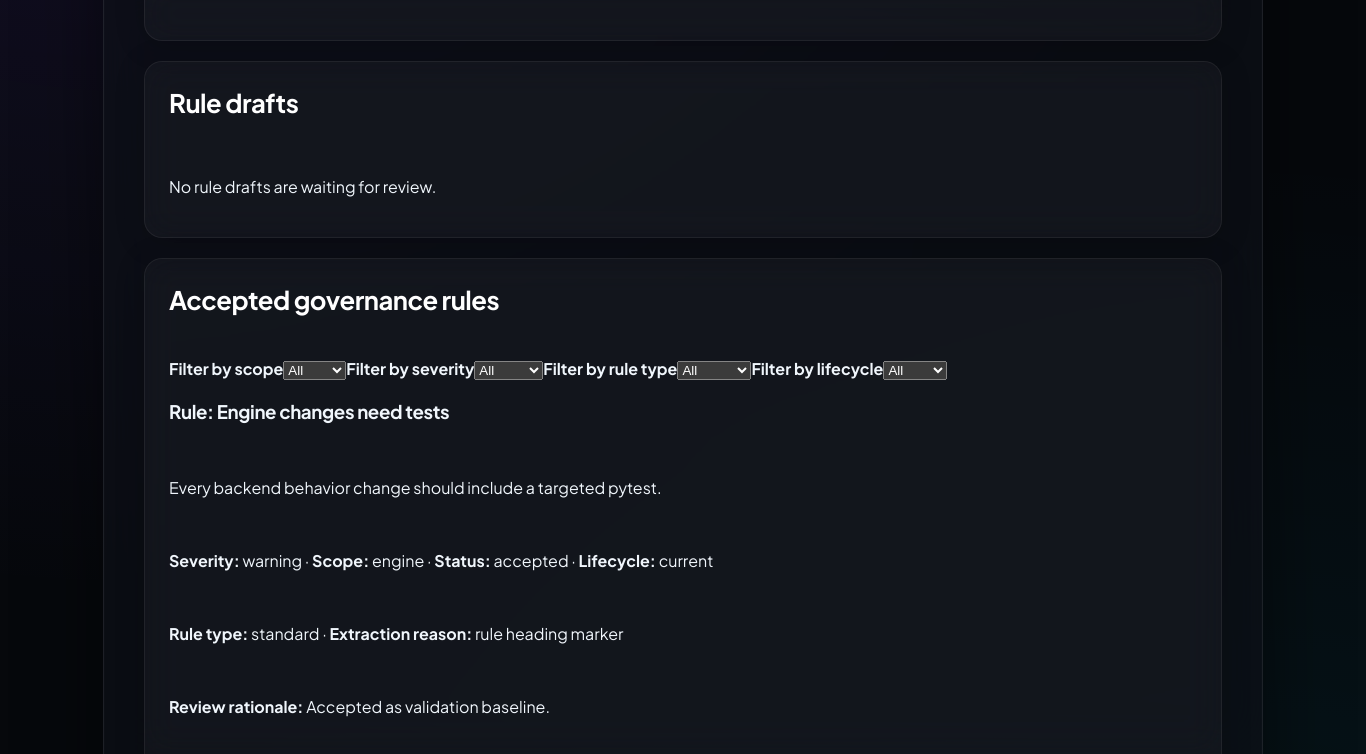
Test: GovernancePageContent › filters accepted rules by bounded metadata
(page scrolled)
Expected: the heading "Rule: Engine changes need tests" is shown, [169, 400, 449, 423]
Step 1. Select "docs" in the dropdown labelled "Filter by scope" → point(315, 370), box [283, 361, 346, 380]
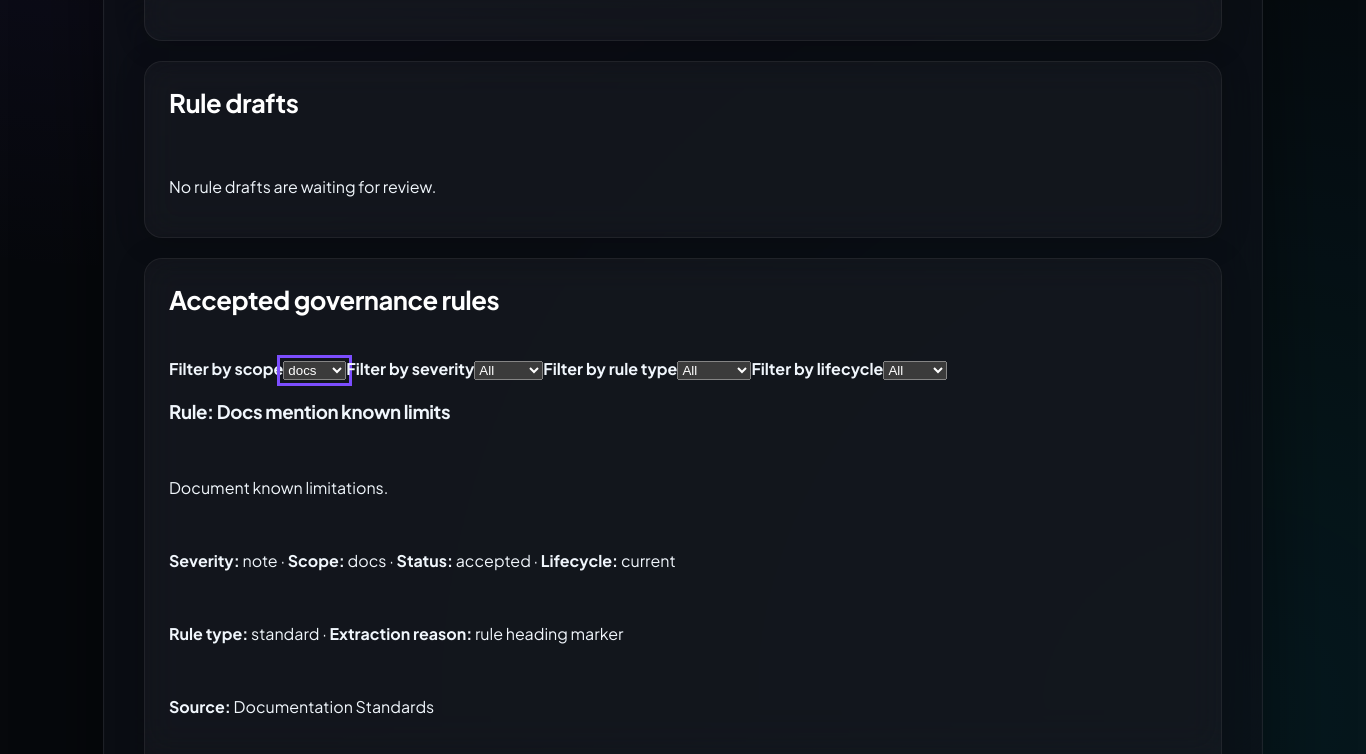
Expected: the heading "Rule: Docs mention known limits" is shown, [169, 400, 450, 423]
Result: the heading "Rule: Engine changes need tests" is gone
